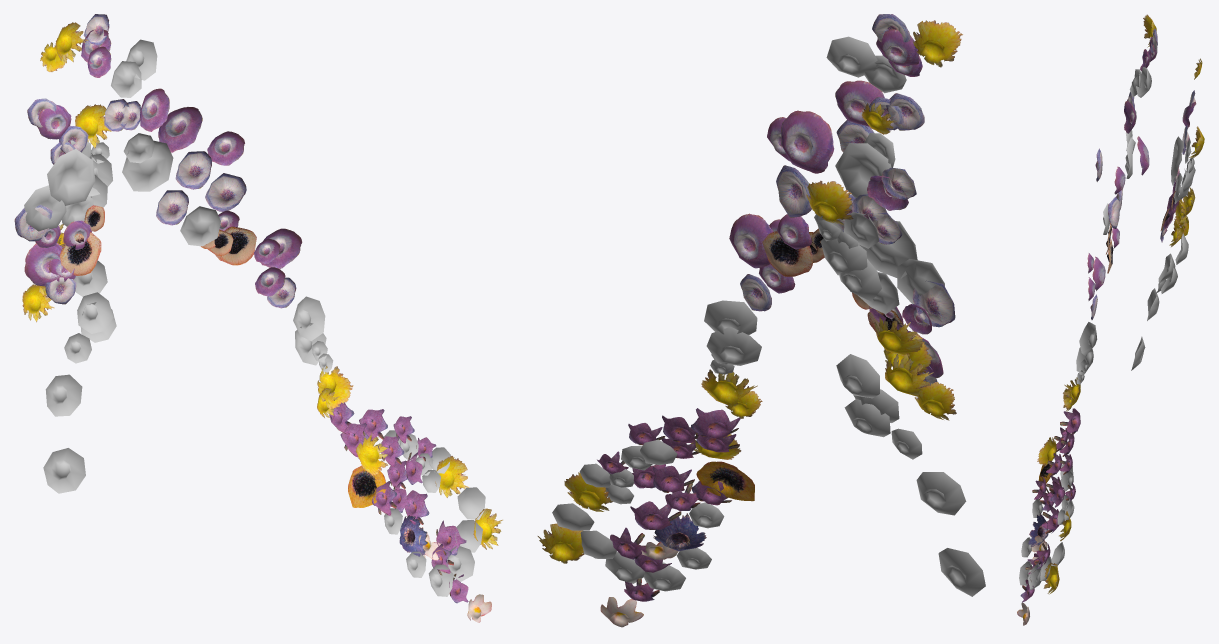
File: Right_Flower1.fbx
3 views of the same model, side by side, from view 1: azimuth 30°, elevation 25°; view 2: azimuth 150°, elevation 25°; view 3: azimuth 270°, elevation 25° (orthographic). The views are drawn at different scales.
Parts seen in each view (by area): view 1: Circle.1102, Circle.1862, Circle.888, Circle.1868, Circle.1078, Circle.1853, Circle.887, Circle.1107, Circle.1858, Circle.1091, Circle.894, Circle.1899 (+24 smaller); view 2: Circle.1868, Circle.1862, Circle.1846, Circle.1837, Circle.1899, Circle.887, Circle.1906, Circle.888, Circle.1860, Circle.879, Circle.1838, Circle.1102 (+45 smaller); view 3: Circle.1903, Circle.1871, Circle.1898, Circle.1872, Circle.1869, Circle.1102, Circle.1901, Circle.1846, Circle.1857, Circle.1858, Circle.1860, Circle.1878 (+1 smaller).
Boxes of the visible parts, left/top/right/bottom form: Circle.1102: left=47, top=149, right=95, bottom=205; Circle.1862: left=122, top=140, right=173, bottom=191; Circle.888: left=43, top=448, right=85, bottom=493; Circle.1868: left=158, top=107, right=202, bottom=152; Circle.1078: left=60, top=232, right=101, bottom=275; Circle.1853: left=180, top=206, right=220, bottom=246; Circle.887: left=45, top=374, right=82, bottom=416; Circle.1107: left=24, top=185, right=66, bottom=231; Circle.1858: left=205, top=173, right=246, bottom=211; Circle.1091: left=24, top=243, right=65, bottom=286; Circle.894: left=77, top=292, right=113, bottom=333; Circle.1899: left=348, top=465, right=385, bottom=507; Circle.1868: left=781, top=110, right=834, bottom=173; Circle.1862: left=835, top=143, right=891, bottom=197; Circle.1846: left=729, top=213, right=773, bottom=268; Circle.1837: left=913, top=20, right=962, bottom=67; Circle.1899: left=696, top=461, right=754, bottom=501; Circle.887: left=916, top=472, right=966, bottom=515; Circle.1906: left=706, top=326, right=761, bottom=365; Circle.888: left=938, top=548, right=985, bottom=596; Circle.1860: left=826, top=36, right=877, bottom=77; Circle.879: left=806, top=180, right=853, bottom=224; Circle.1838: left=762, top=231, right=812, bottom=276; Circle.1102: left=859, top=221, right=917, bottom=278; Circle.1903: left=1079, top=322, right=1097, bottom=355; Circle.1871: left=1037, top=437, right=1056, bottom=466; Circle.1898: left=1028, top=513, right=1048, bottom=547; Circle.1872: left=1060, top=408, right=1080, bottom=434; Circle.1869: left=1043, top=562, right=1059, bottom=594; Circle.1102: left=1171, top=136, right=1183, bottom=180; Circle.1901: left=1063, top=377, right=1080, bottom=409; Circle.1846: left=1092, top=256, right=1105, bottom=290; Circle.1857: left=1124, top=101, right=1136, bottom=133; Circle.1858: left=1108, top=197, right=1119, bottom=228; Circle.1860: left=1136, top=67, right=1151, bottom=97; Circle.1878: left=1041, top=504, right=1059, bottom=533.
Size of the model in its own units: 173 by 250 by 88.63.
